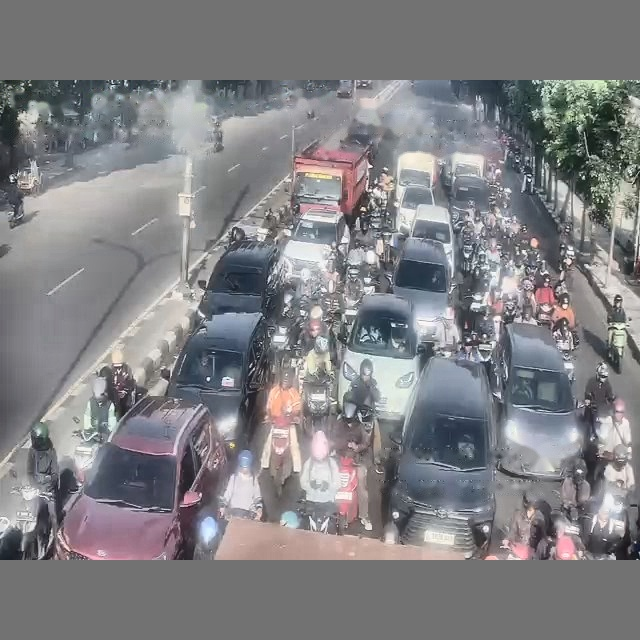Mobil: (55, 397, 227, 559), (389, 357, 495, 557), (166, 313, 270, 452), (491, 323, 583, 479), (338, 293, 421, 420), (390, 237, 455, 342), (197, 240, 282, 320), (281, 209, 349, 281), (410, 204, 455, 275), (396, 185, 434, 234), (449, 176, 489, 222), (441, 152, 485, 190), (336, 80, 353, 97), (356, 80, 372, 88)
Motor: (302, 372, 332, 437), (608, 322, 626, 373), (8, 200, 24, 228)
Truk: (291, 134, 371, 221)
